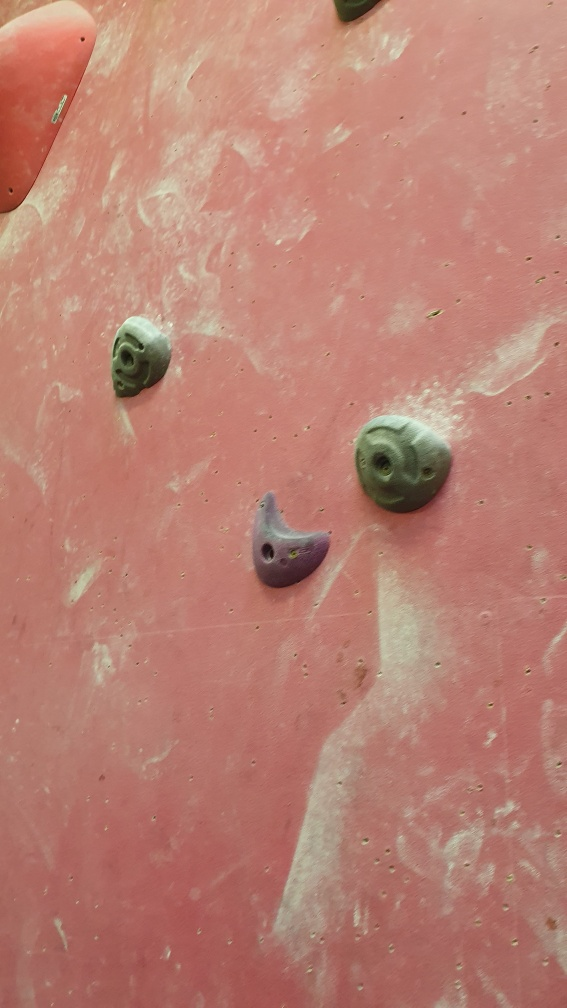Jug: (354, 411, 454, 518), (108, 315, 175, 406)
